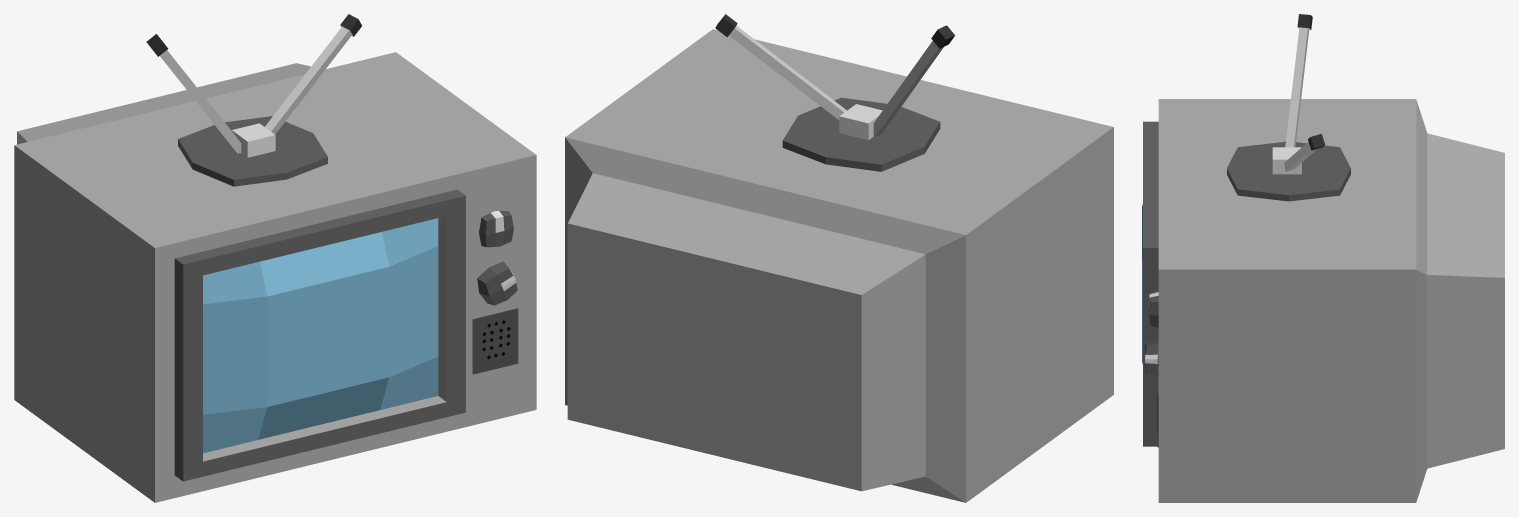
The model's file is TURN THIS TV OFFfbx.fbx.
3 views of the same model, side by side, from view 1: azimuth 30°, elevation 25°; view 2: azimuth 150°, elevation 25°; view 3: azimuth 270°, elevation 25° (orthographic). The views are drawn at different scales.
Parts seen in each view (by area): view 1: Cube, Cube.022, Cube.003, Cube.025, Cube.024, Cube.002, Cube.001, Cube.023; view 2: Cube, Cube.022, Cube.025, Cube.024, Cube.023; view 3: Cube, Cube.022, Cube.024, Cube.023, Cube.025, Cube.002.
Boxes of the visible parts, box(x1,y1,x2,y2) form: Cube: box(14, 52, 536, 502); Cube.022: box(178, 116, 327, 186); Cube.003: box(472, 308, 518, 374); Cube.025: box(265, 14, 361, 134); Cube.024: box(146, 34, 241, 153); Cube.002: box(477, 261, 517, 305); Cube.001: box(479, 211, 513, 247); Cube.023: box(231, 123, 275, 157); Cube: box(565, 29, 1113, 502); Cube.022: box(782, 97, 940, 171); Cube.025: box(715, 14, 846, 119); Cube.024: box(873, 25, 954, 136); Cube.023: box(839, 104, 882, 140); Cube: box(1142, 99, 1504, 502); Cube.022: box(1227, 141, 1350, 201); Cube.024: box(1285, 14, 1312, 147); Cube.023: box(1272, 147, 1301, 174); Cube.025: box(1284, 134, 1325, 171); Cube.002: box(1145, 340, 1158, 375).
Bounding box in the file's own units: 532 × 516 × 478.
